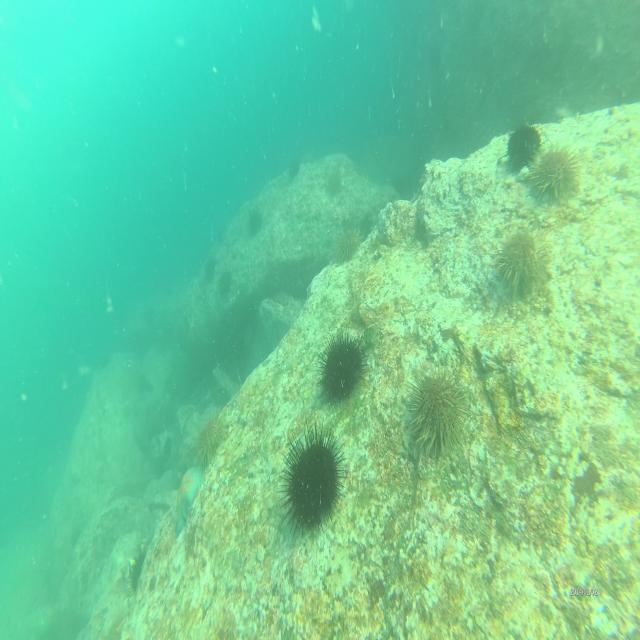echinus: (278, 416, 345, 540), (401, 364, 467, 463), (314, 328, 366, 408), (495, 228, 541, 299), (529, 140, 582, 201), (499, 120, 545, 174), (194, 411, 228, 462), (333, 223, 365, 270), (125, 550, 148, 598), (324, 163, 343, 206), (216, 262, 234, 302), (246, 206, 264, 237), (286, 154, 300, 186)
starfish: (171, 458, 205, 540)
